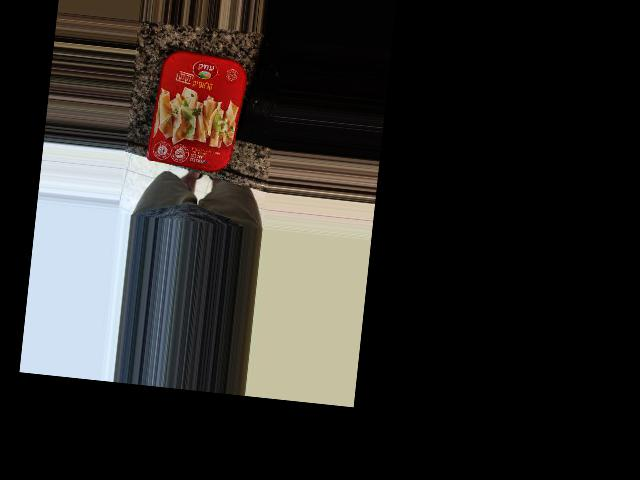cheese: (153, 82, 256, 199)
